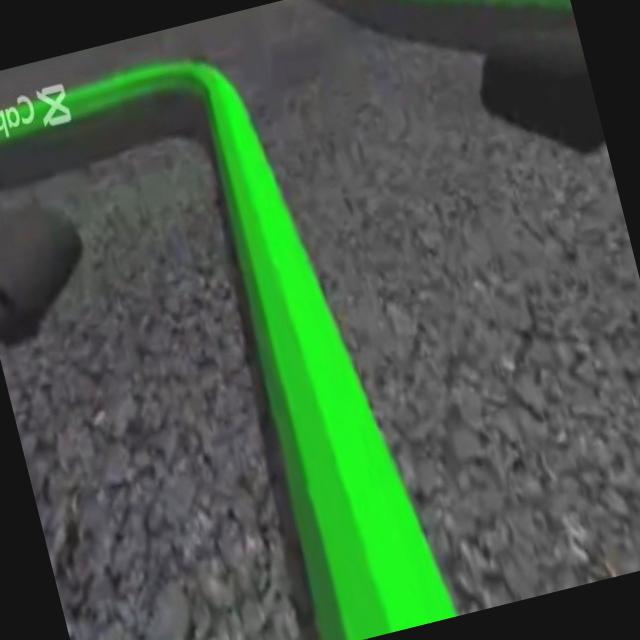gas: (115, 19, 465, 640)
